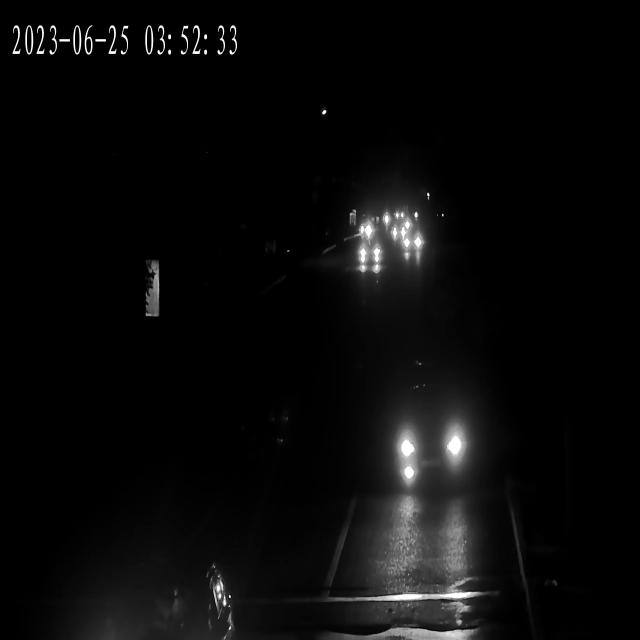Car: (105, 550, 241, 640), (381, 382, 476, 488), (354, 240, 382, 267), (356, 244, 382, 271), (399, 234, 424, 256), (404, 232, 423, 253), (387, 222, 409, 240), (387, 226, 409, 243), (354, 224, 376, 241), (353, 222, 375, 238), (376, 214, 395, 227), (388, 210, 406, 222)
